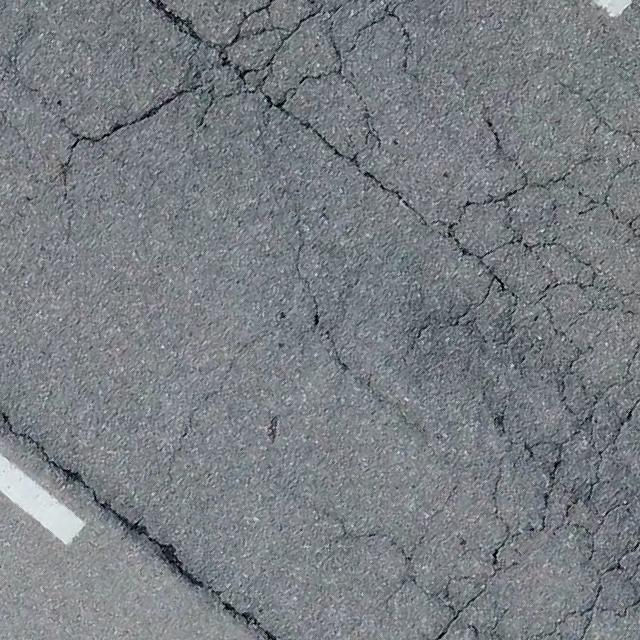GRIETA: (0, 412, 278, 639)
PIEL DE COCODRILO: (0, 0, 639, 639)
